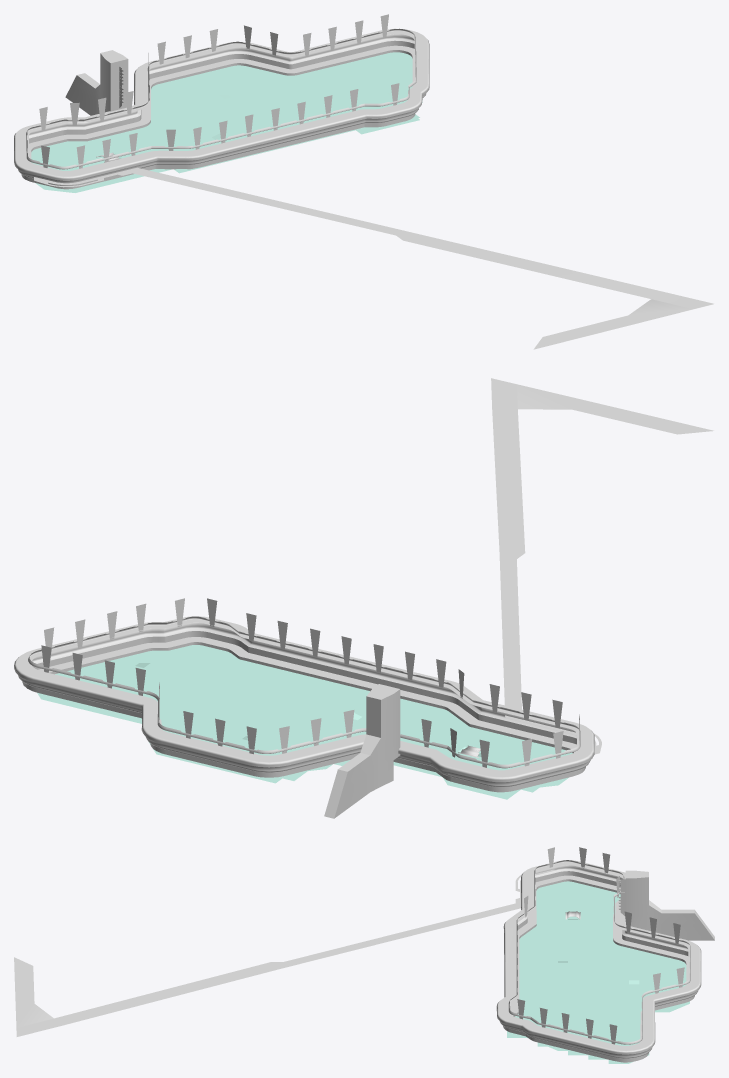
File: lightcycle arena1.fbx
3 renders of one model, top to bottom at view 1: azimuth 30°, elevation 25°; view 2: azimuth 150°, elevation 25°; view 3: azimuth 270°, elevation 25°, orthographic. The views are drawn at different scales.
Visible parts, largest first — view 1: light_cycle_arena1, light, polySurface1 #4851, ref_tron_gridfloor.smd.027, ref_tron_gridfloor.smd.033, ref_tron_gridfloor.smd.036, ref_tron_gridfloor.smd.035, ref_tron_gridfloor.smd.034, ref_tron_gridfloor.smd.022, ref_tron_gridfloor.smd.030, ref_tron_gridfloor.smd.024, ref_tron_gridfloor.smd.014 (+1 smaller); view 2: light_cycle_arena1, light, polySurface1 #4851, ref_tron_gridfloor.smd.033, ref_tron_gridfloor.smd.026, ref_tron_gridfloor.smd.036, ref_tron_gridfloor.smd.032, ref_tron_gridfloor.smd.027, ref_tron_gridfloor.smd.037, ref_tron_gridfloor.smd.025, ref_tron_gridfloor.smd.021, ref_tron_gridfloor.smd.030 (+1 smaller); view 3: light_cycle_arena1, polySurface1 #4851, light, ref_tron_gridfloor.smd.033, ref_tron_gridfloor.smd.036, ref_tron_gridfloor.smd.022, ref_tron_gridfloor.smd.027, ref_tron_gridfloor.smd.035, ref_tron_gridfloor.smd.037, ref_tron_gridfloor.smd.021, ref_tron_gridfloor.smd.032, ref_tron_gridfloor.smd.024 (+5 smaller).
Part boxes in pixels (x1,y1,x2,y2): light_cycle_arena1: [14, 28, 713, 349]; light: [39, 14, 415, 168]; polySurface1 #4851: [65, 50, 128, 115]; ref_tron_gridfloor.smd.027: [294, 68, 385, 106]; ref_tron_gridfloor.smd.033: [235, 82, 325, 121]; ref_tron_gridfloor.smd.036: [176, 96, 267, 135]; ref_tron_gridfloor.smd.035: [151, 73, 228, 110]; ref_tron_gridfloor.smd.034: [203, 65, 292, 96]; ref_tron_gridfloor.smd.022: [126, 111, 209, 150]; ref_tron_gridfloor.smd.030: [353, 54, 412, 92]; ref_tron_gridfloor.smd.024: [62, 132, 150, 164]; ref_tron_gridfloor.smd.014: [31, 142, 91, 170]; light_cycle_arena1: [14, 378, 713, 792]; light: [41, 598, 579, 767]; polySurface1 #4851: [324, 684, 400, 818]; ref_tron_gridfloor.smd.033: [174, 685, 285, 732]; ref_tron_gridfloor.smd.026: [144, 645, 247, 685]; ref_tron_gridfloor.smd.036: [245, 703, 357, 747]; ref_tron_gridfloor.smd.032: [215, 661, 318, 702]; ref_tron_gridfloor.smd.027: [115, 668, 214, 715]; ref_tron_gridfloor.smd.037: [287, 679, 369, 716]; ref_tron_gridfloor.smd.025: [429, 718, 521, 754]; ref_tron_gridfloor.smd.021: [358, 698, 456, 736]; ref_tron_gridfloor.smd.030: [55, 660, 143, 689]; light_cycle_arena1: [14, 860, 701, 1062]; polySurface1 #4851: [625, 870, 714, 940]; light: [517, 847, 684, 1044]; ref_tron_gridfloor.smd.033: [568, 984, 628, 1010]; ref_tron_gridfloor.smd.036: [568, 958, 628, 984]; ref_tron_gridfloor.smd.022: [568, 933, 628, 958]; ref_tron_gridfloor.smd.027: [568, 1010, 628, 1035]; ref_tron_gridfloor.smd.035: [629, 958, 686, 984]; ref_tron_gridfloor.smd.037: [519, 958, 567, 984]; ref_tron_gridfloor.smd.021: [519, 933, 567, 958]; ref_tron_gridfloor.smd.032: [519, 984, 567, 1010]; ref_tron_gridfloor.smd.024: [568, 907, 615, 932].
Bounding box in the file's own units: 9605 × 1498 × 14815.
